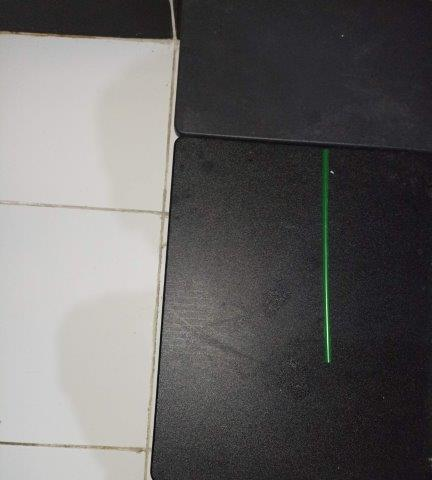sedotan: (322, 150, 332, 364)
